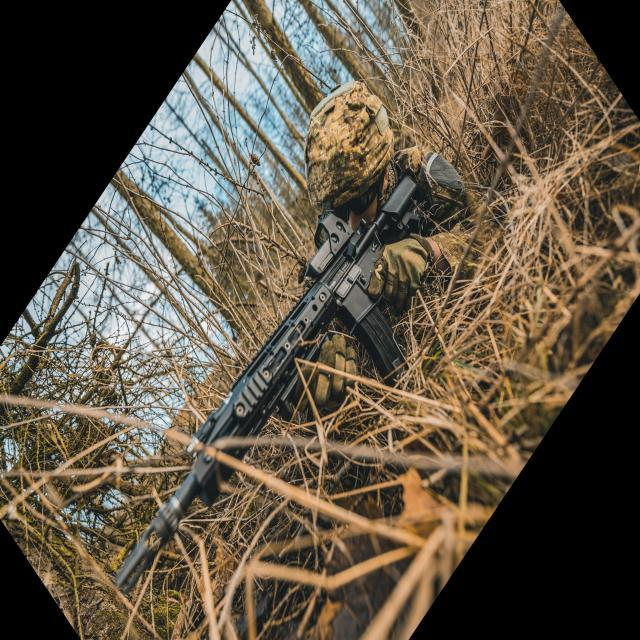weapon: (116, 161, 427, 600)
